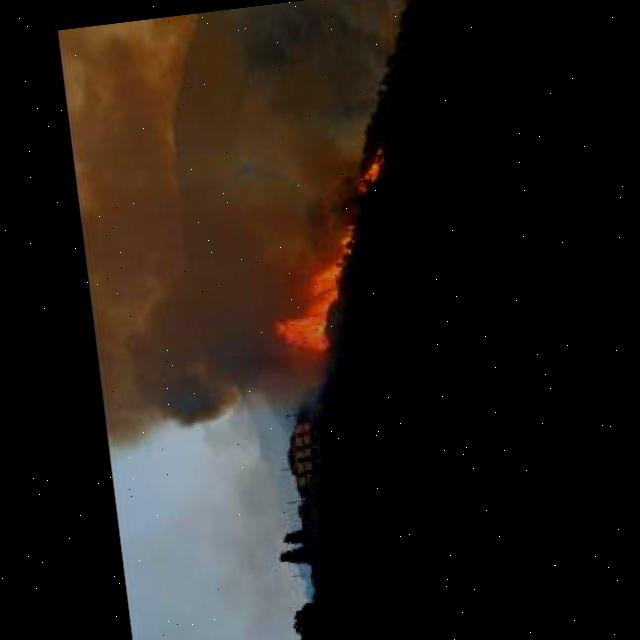fire: (253, 223, 371, 361), (350, 148, 385, 195)
